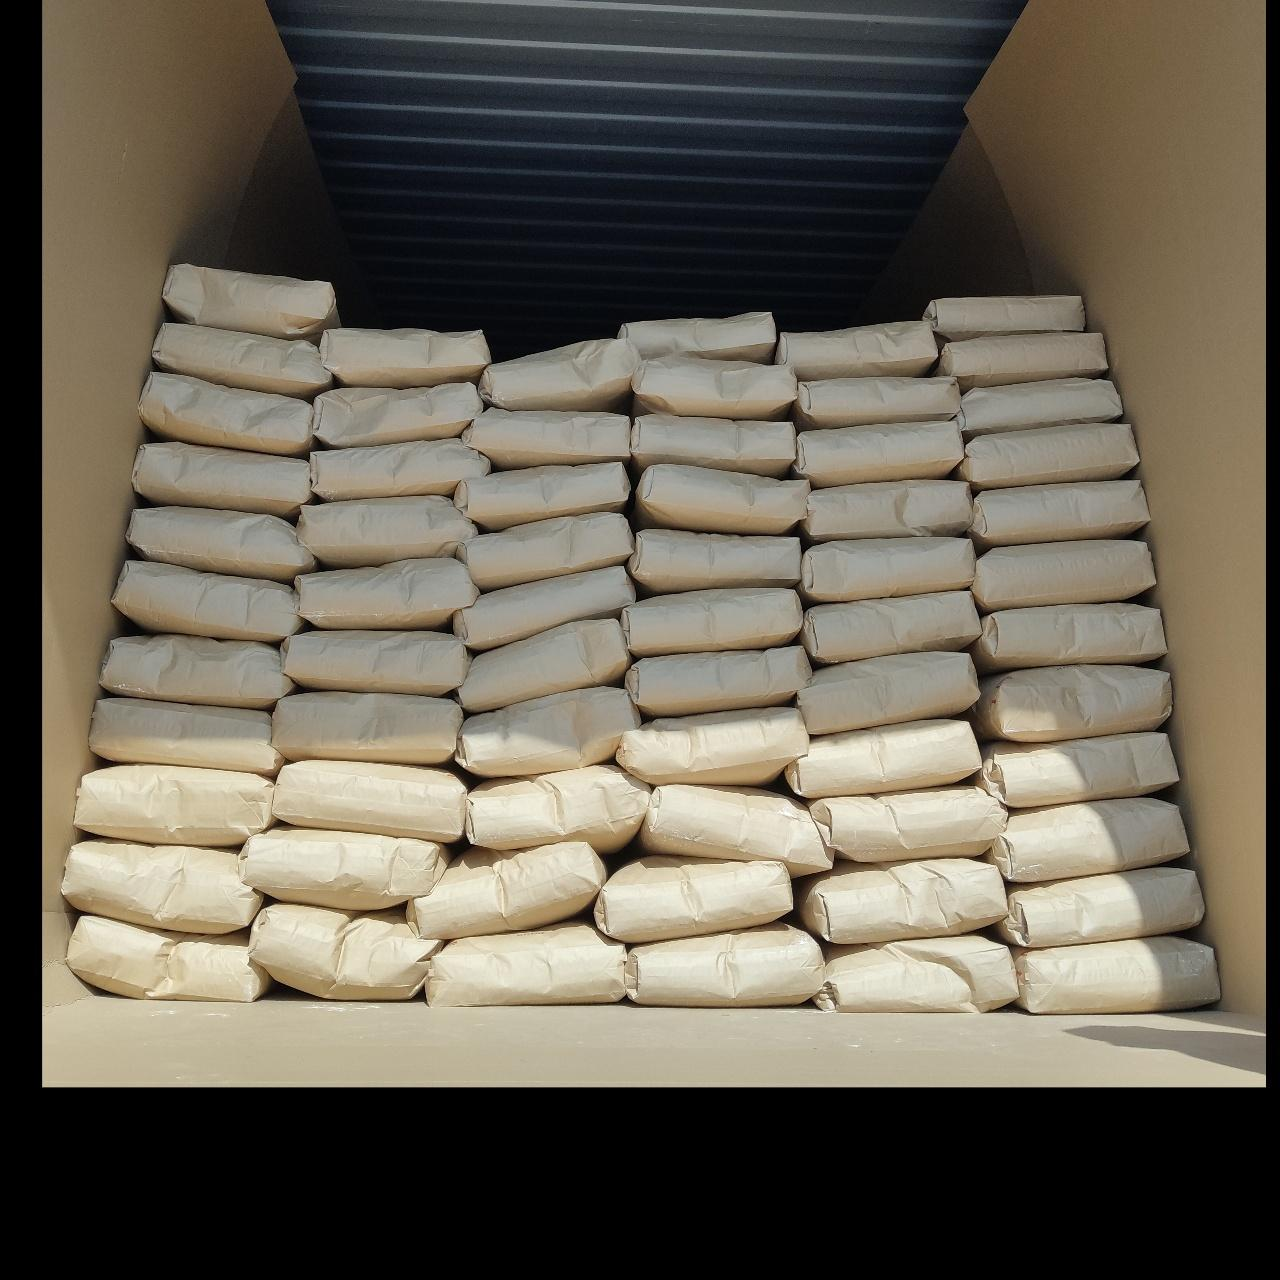sack: (410, 840, 606, 936), (64, 840, 262, 932), (424, 920, 630, 1006), (252, 904, 438, 998), (240, 826, 452, 908), (798, 860, 1006, 942), (640, 786, 830, 872), (998, 868, 1202, 948), (596, 858, 790, 942), (70, 916, 268, 998), (626, 922, 822, 1004), (988, 798, 1188, 878), (458, 618, 630, 710), (76, 766, 272, 846), (468, 764, 650, 850), (458, 688, 638, 774), (1014, 936, 1216, 1012), (820, 934, 1016, 1012), (806, 784, 1006, 860), (276, 760, 466, 838), (972, 666, 1170, 740), (976, 732, 1174, 806), (786, 720, 978, 796), (114, 562, 302, 638), (618, 706, 806, 782), (798, 652, 976, 732), (454, 566, 632, 646), (92, 698, 278, 774), (142, 374, 314, 454), (102, 634, 292, 706), (274, 692, 462, 764), (130, 508, 314, 580), (154, 324, 332, 398), (458, 514, 630, 588), (134, 444, 310, 516), (974, 540, 1154, 610), (974, 604, 1164, 670), (626, 646, 810, 714), (298, 558, 476, 628), (164, 266, 336, 338), (802, 592, 978, 662), (634, 464, 806, 534), (298, 498, 474, 566), (282, 630, 468, 694), (972, 480, 1148, 546), (622, 588, 798, 654), (456, 462, 628, 528), (958, 424, 1138, 486), (800, 536, 974, 600), (312, 382, 482, 446), (794, 422, 962, 486), (310, 440, 490, 498), (480, 340, 638, 406), (630, 530, 798, 592), (802, 480, 972, 540), (632, 414, 796, 476), (464, 408, 628, 468), (634, 356, 796, 416), (938, 332, 1106, 388), (776, 322, 934, 380), (960, 380, 1120, 436), (320, 330, 488, 382), (794, 378, 958, 428), (620, 312, 774, 362), (924, 296, 1084, 340)
